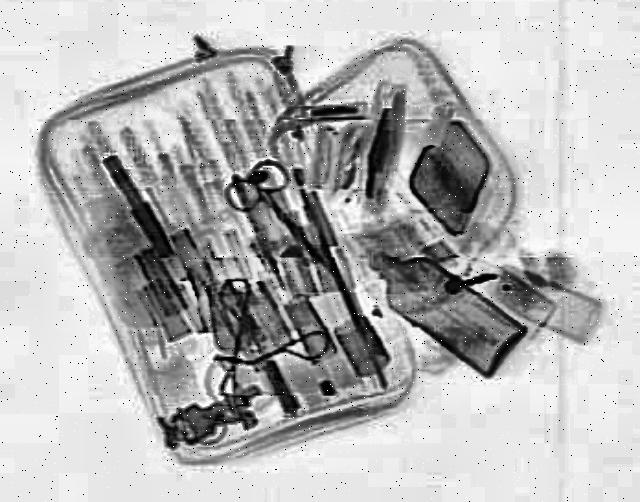Scissors: (207, 160, 356, 284)
